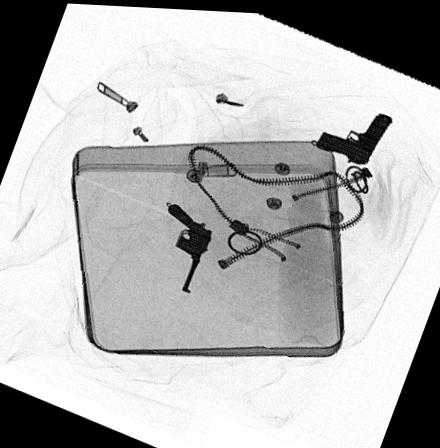Gun: (167, 201, 213, 291), (315, 109, 392, 161)
